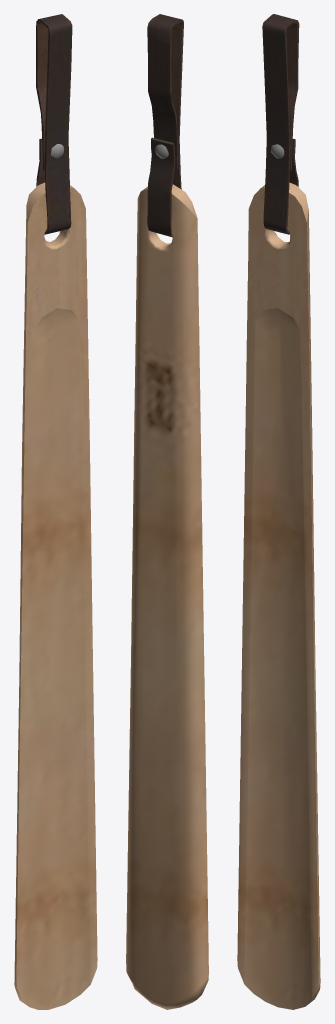
File: 17 - HÖSVANS Shoehorn - bamboo 40.0 cm.glb
The picture shows the model from 3 angles, left to right: view 1: azimuth 30°, elevation 25°; view 2: azimuth 150°, elevation 25°; view 3: azimuth 330°, elevation 25°; orthographic projection.
Visible parts, largest first — view 1: ASY_ART_10609634_S01_NV01; view 2: ASY_ART_10609634_S01_NV01; view 3: ASY_ART_10609634_S01_NV01.
Part boxes in pixels (bbox=[...]): ASY_ART_10609634_S01_NV01: bbox=[14, 14, 97, 1009]; ASY_ART_10609634_S01_NV01: bbox=[126, 14, 208, 1009]; ASY_ART_10609634_S01_NV01: bbox=[237, 14, 320, 1009].
Bounding box in the file's own units: 0.035 × 0.4081 × 0.0105.
Materials: 1 (1 with a texture image).
